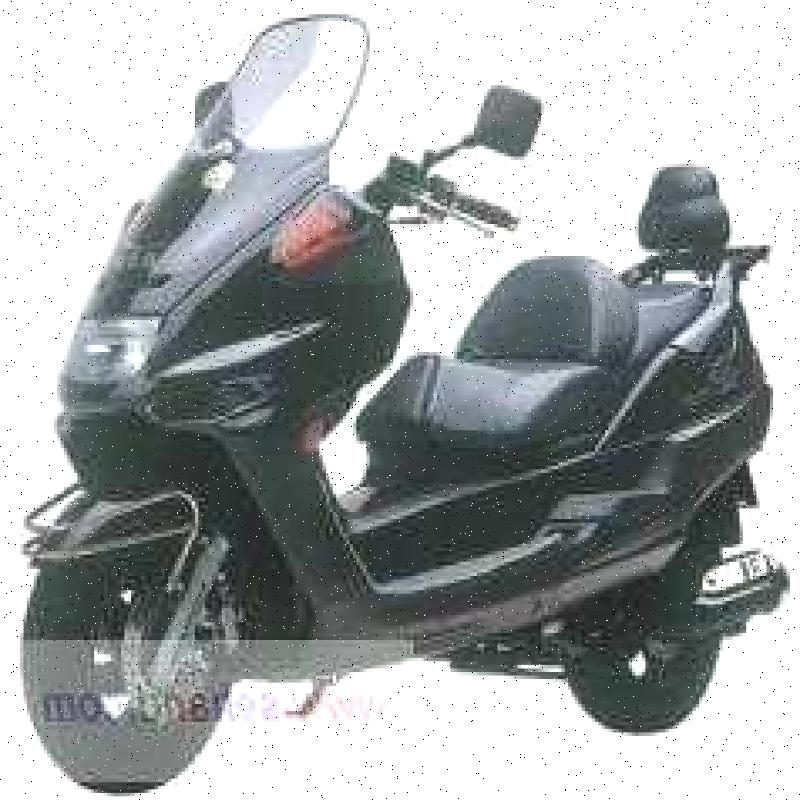bike: (0, 34, 795, 756)
